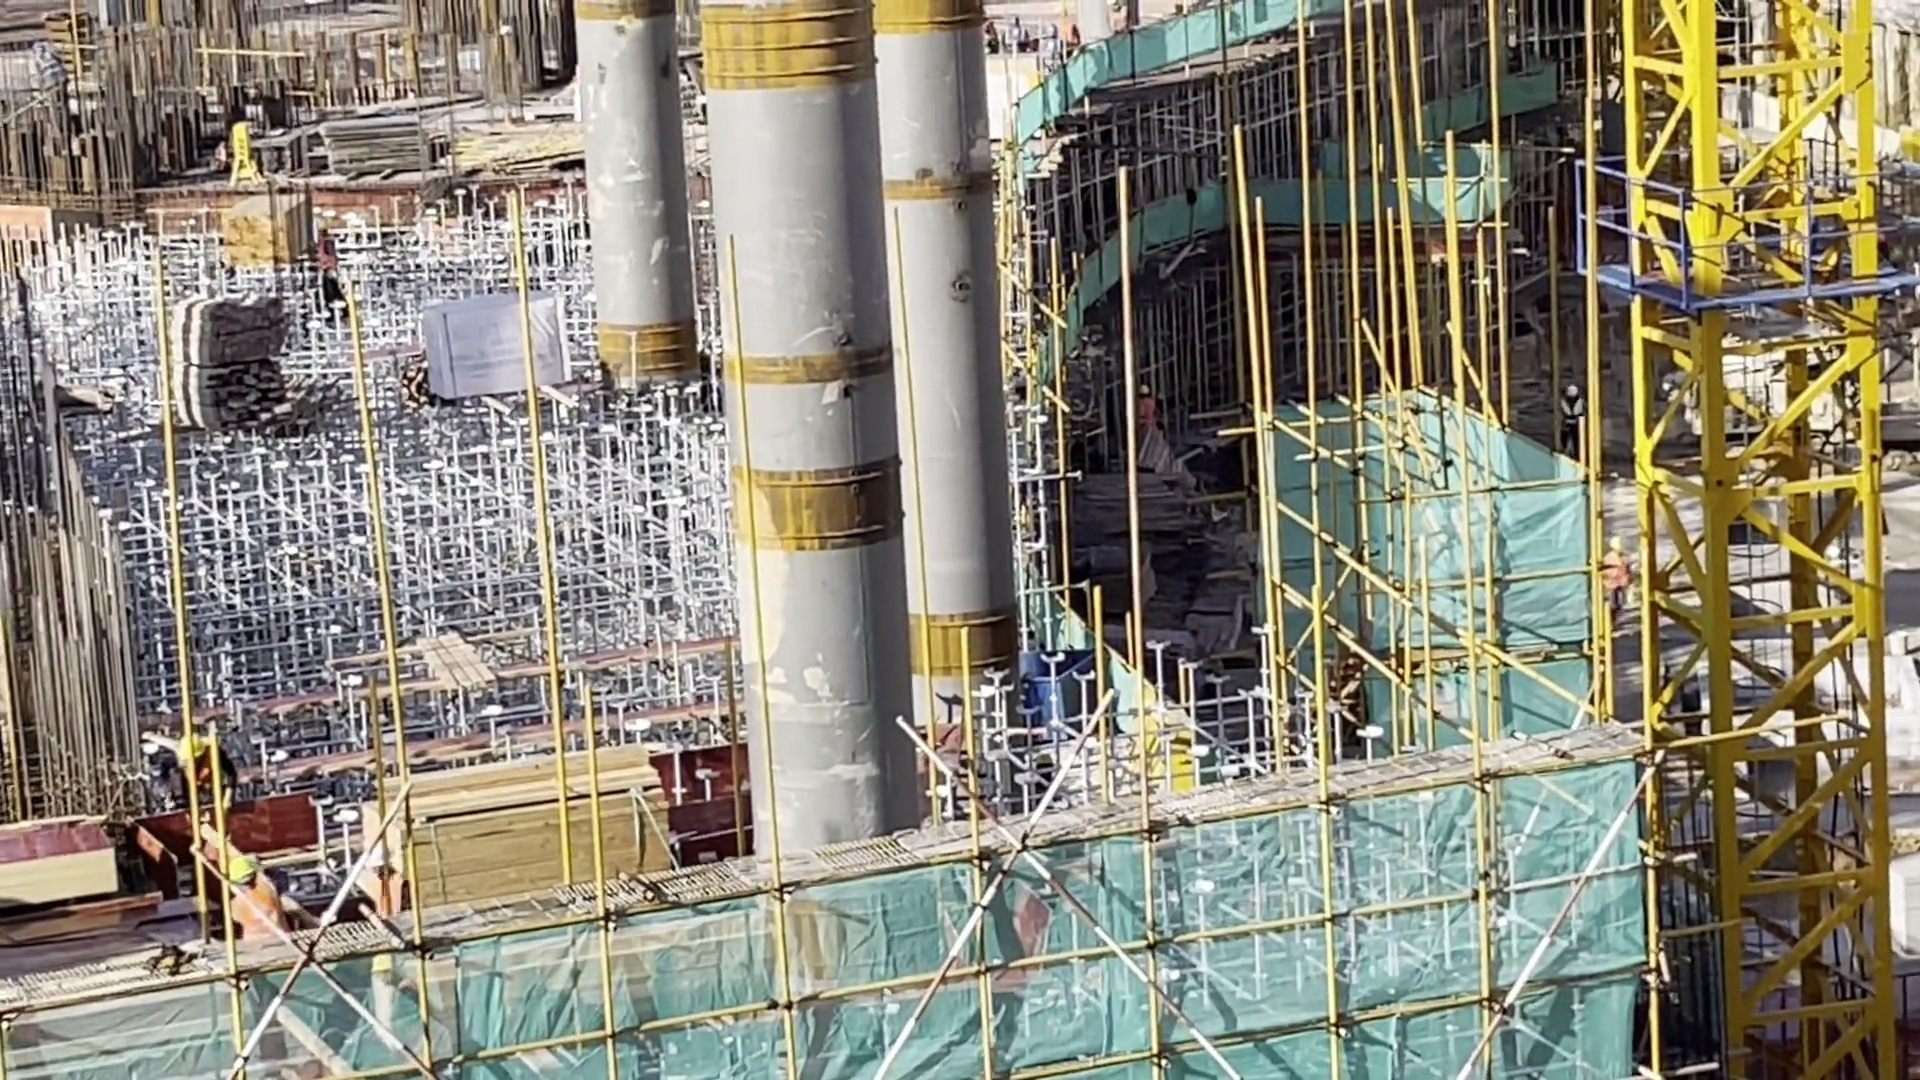helmet: (358, 841, 401, 878), (222, 857, 269, 890)
person: (211, 845, 291, 952), (354, 837, 414, 930)
vest: (227, 888, 287, 940), (357, 871, 404, 922)
